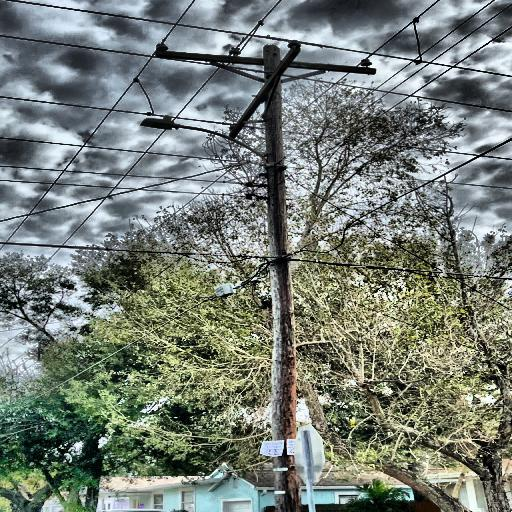insulator: (358, 58, 374, 67), (287, 39, 303, 48), (228, 47, 242, 55), (155, 44, 168, 52), (229, 126, 239, 131)
pole: (247, 39, 323, 512)
street light: (138, 117, 272, 167)
